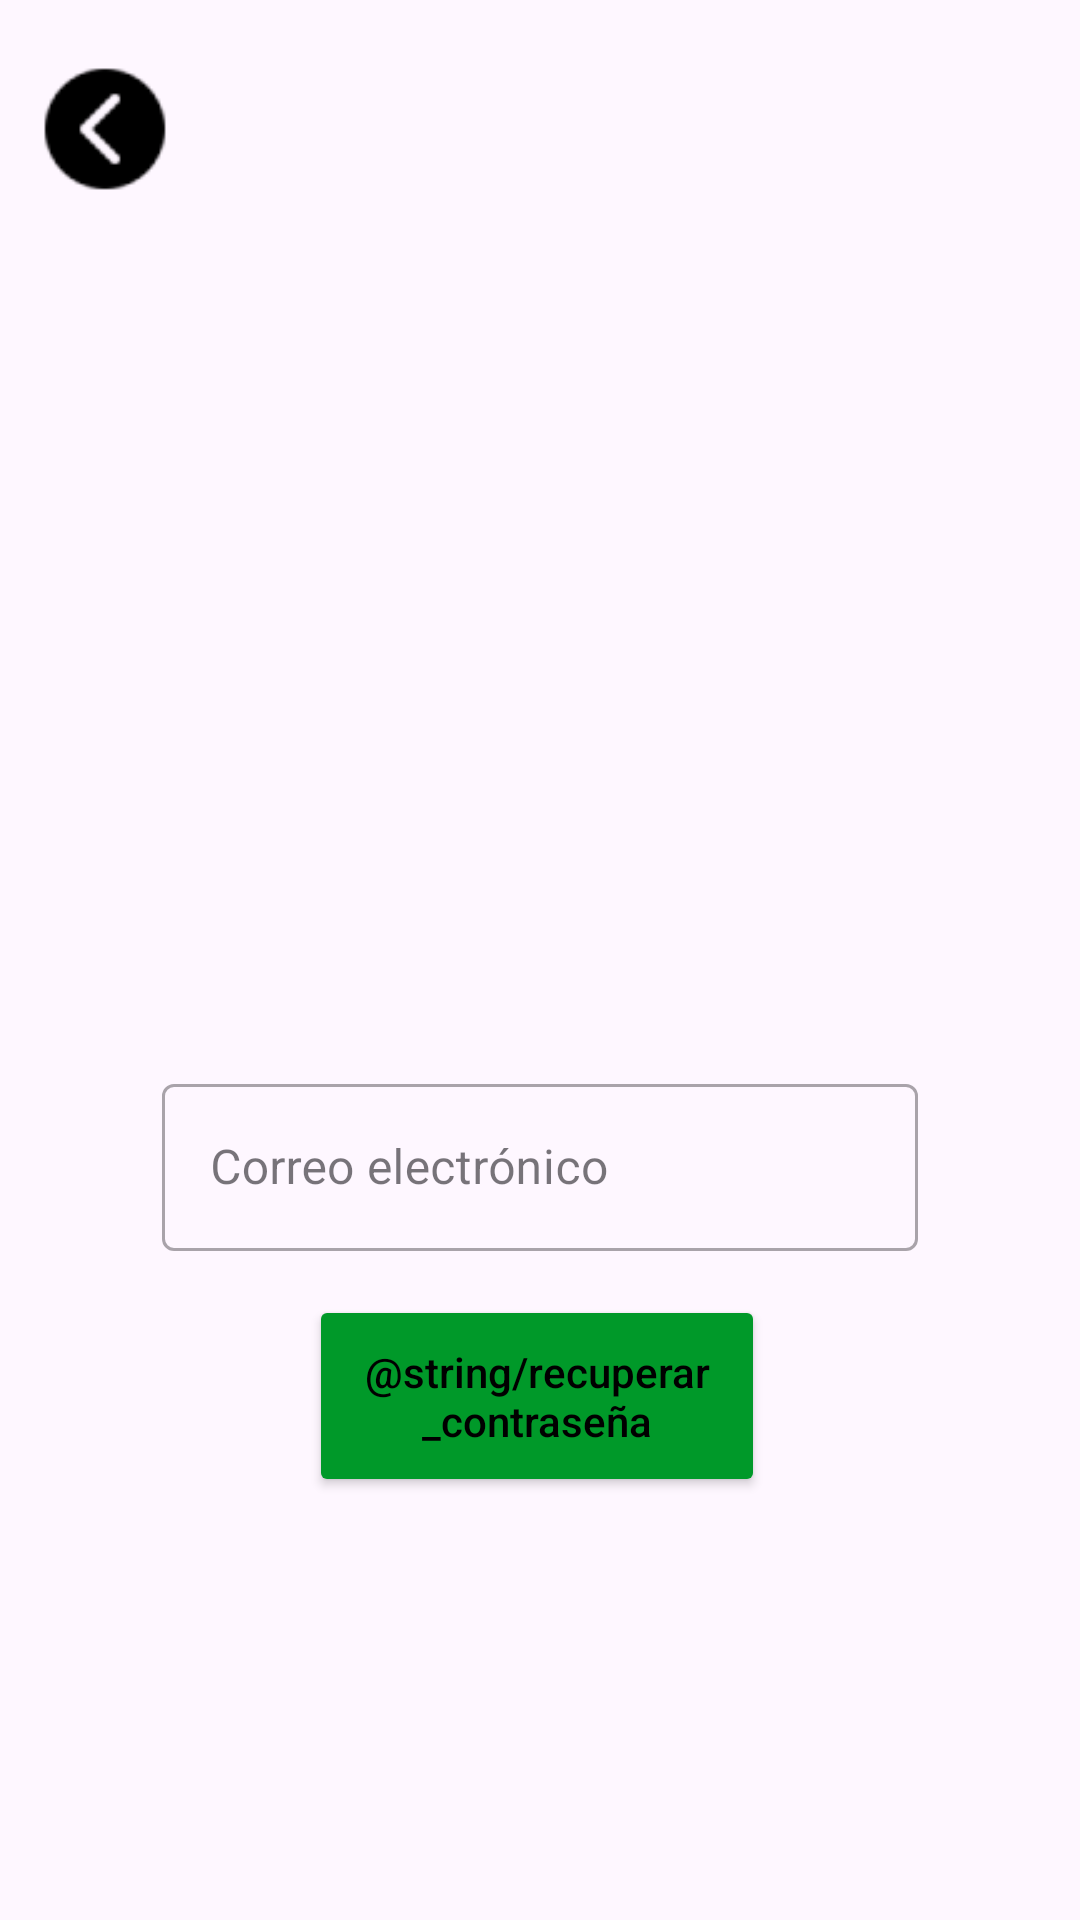

Named icons in this screenshot (1080px x 1920px) and their bounding boxes, box(x1, y1, x2, y2):
flecha atras: box(44, 68, 166, 190)
